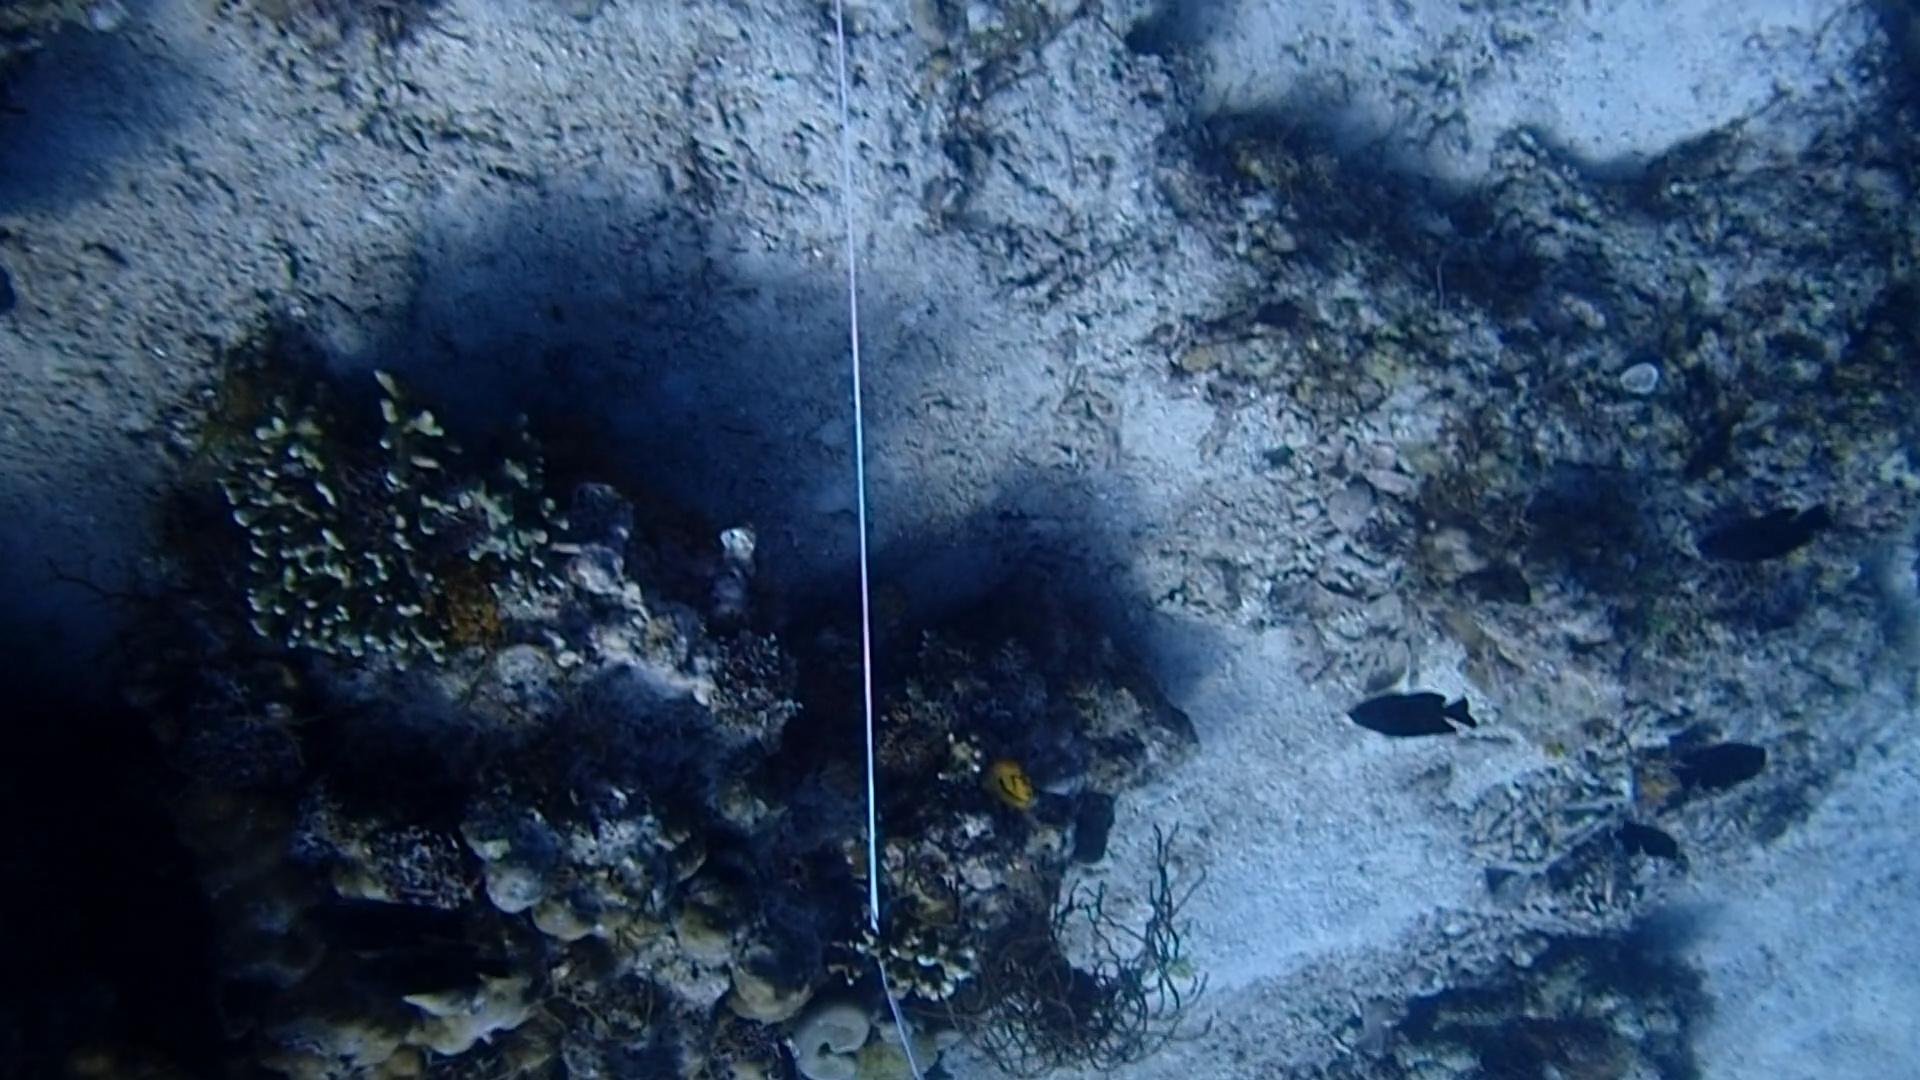Dark Fish: (1701, 500, 1841, 575), (1344, 674, 1490, 742), (1665, 398, 1760, 498), (1660, 732, 1775, 811), (1604, 812, 1689, 874)
